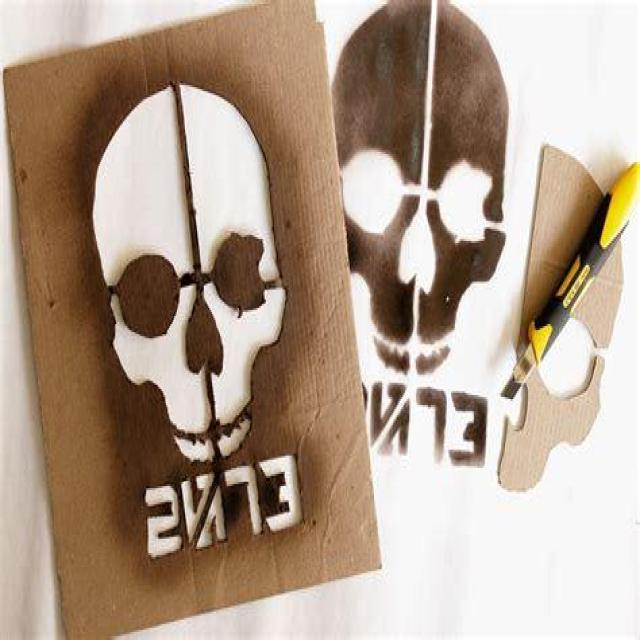nonspitting: (90, 74, 306, 558), (330, 0, 508, 472)
